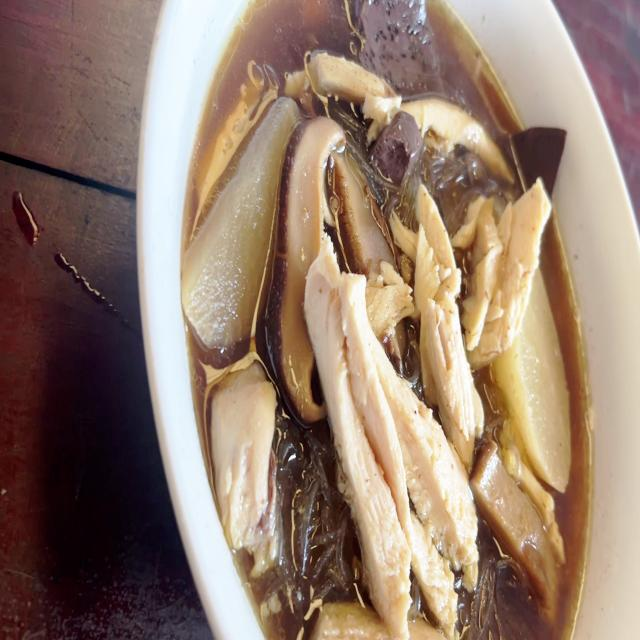boiled_chicken_blood_jelly: (346, 0, 436, 99), (516, 118, 561, 190), (378, 115, 422, 186)
chicken_shredded: (316, 247, 458, 594), (420, 195, 477, 446), (205, 366, 278, 560), (477, 180, 552, 355), (406, 87, 501, 162), (311, 36, 392, 119), (314, 603, 457, 640)
daikon_radish: (191, 102, 287, 352), (513, 303, 569, 477)
noodle: (190, 0, 584, 640)
